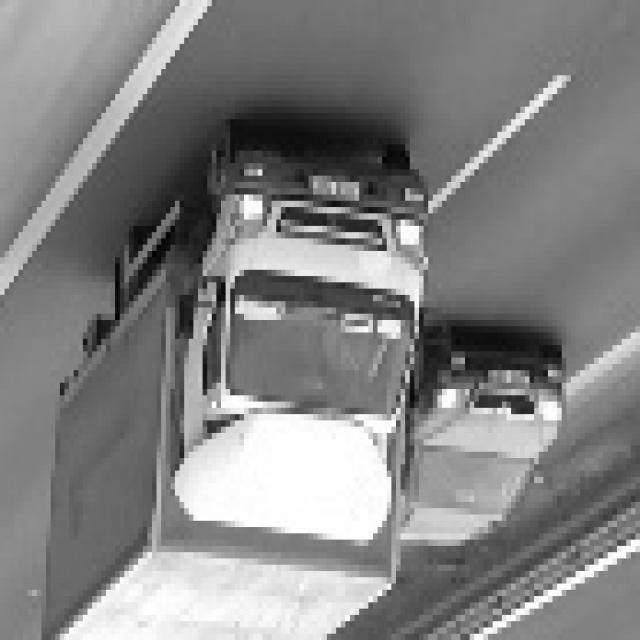truck: (158, 104, 452, 558)
